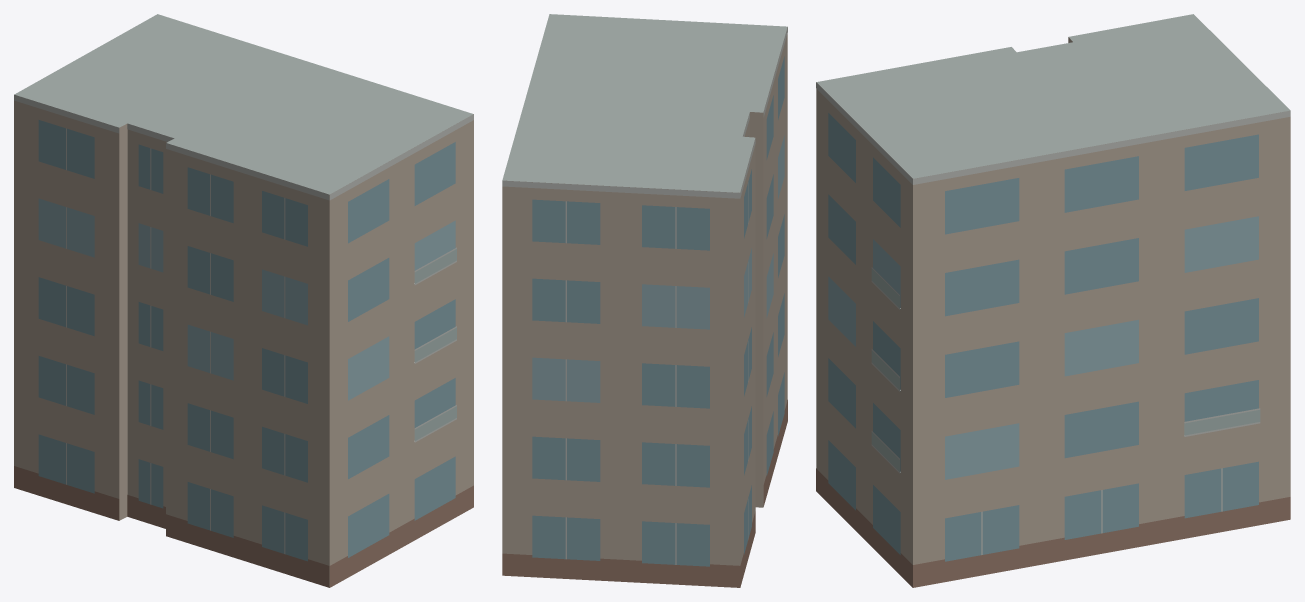
Rendered from survey-upis-32846647.glb.
3 views of the same model, side by side, from view 1: azimuth 30°, elevation 25°; view 2: azimuth 150°, elevation 25°; view 3: azimuth 270°, elevation 25° (orthographic). The views are drawn at different scales.
Parts seen in each view (by area): view 1: survey-upis-32846647.tmp; view 2: survey-upis-32846647.tmp; view 3: survey-upis-32846647.tmp.
Boxes of the visible parts, x1,y1,x2,y2 form: survey-upis-32846647.tmp: (14,14,473,587); survey-upis-32846647.tmp: (502,14,787,587); survey-upis-32846647.tmp: (816,14,1290,587).
Size of the model in its own units: 14.01 by 16.2 by 17.04.
